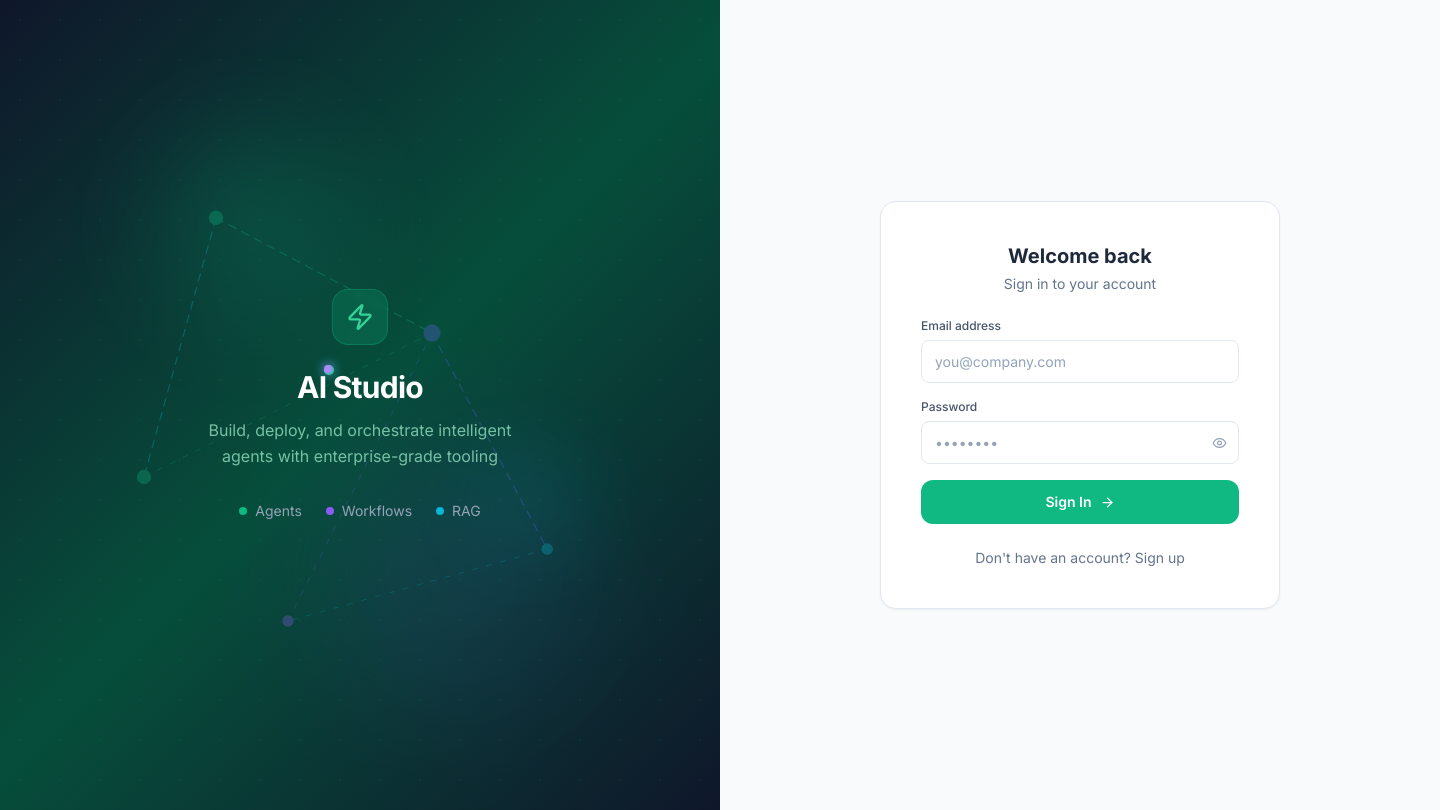
Scenario: LoginPage › shows generic error message when no detail in response
Type "test@test.com" into the field with placeholder "you@company.com" at (1080, 362), box [921, 340, 1239, 383]
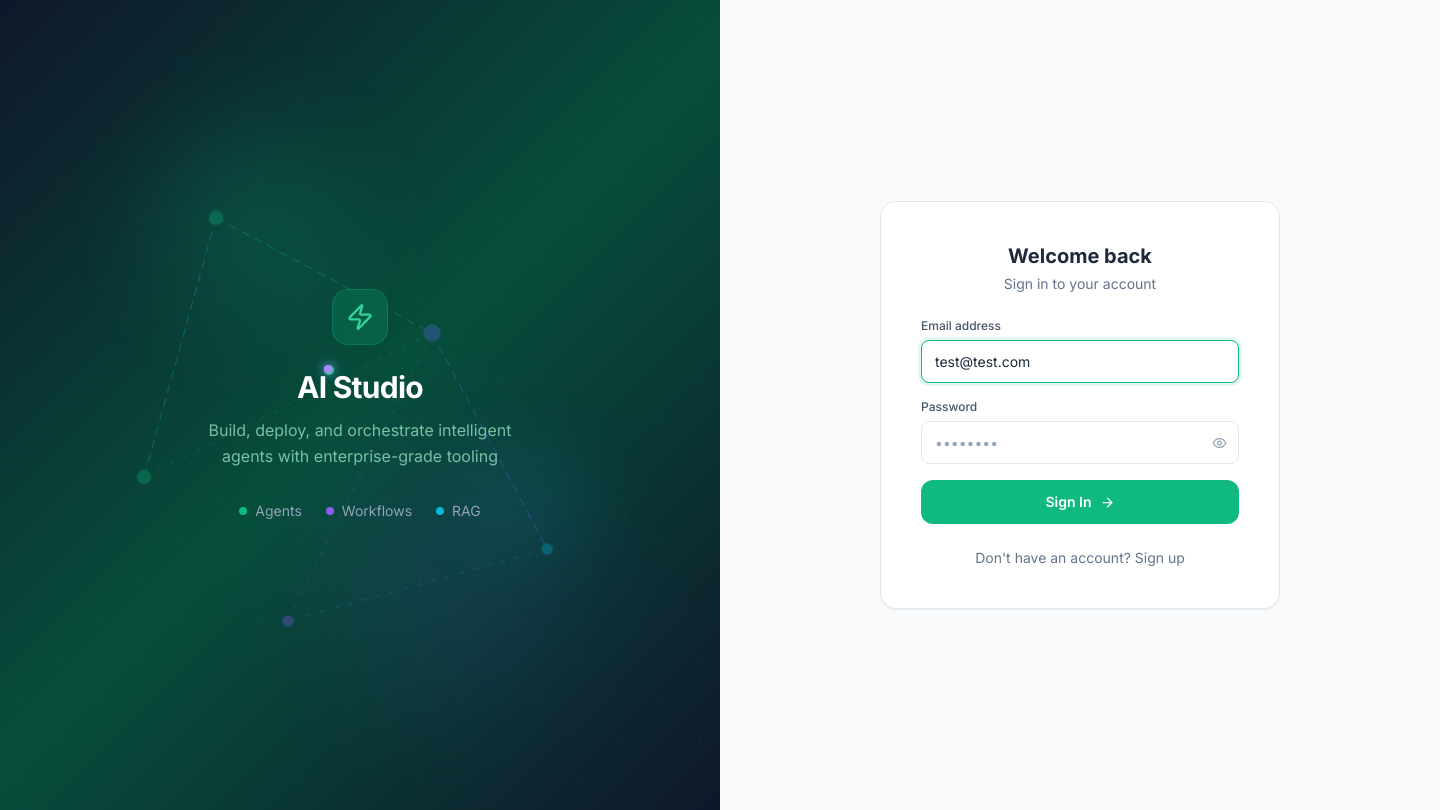
Type "pass" into the password field with placeholder "••••••••" at (1080, 442), box [921, 421, 1239, 464]
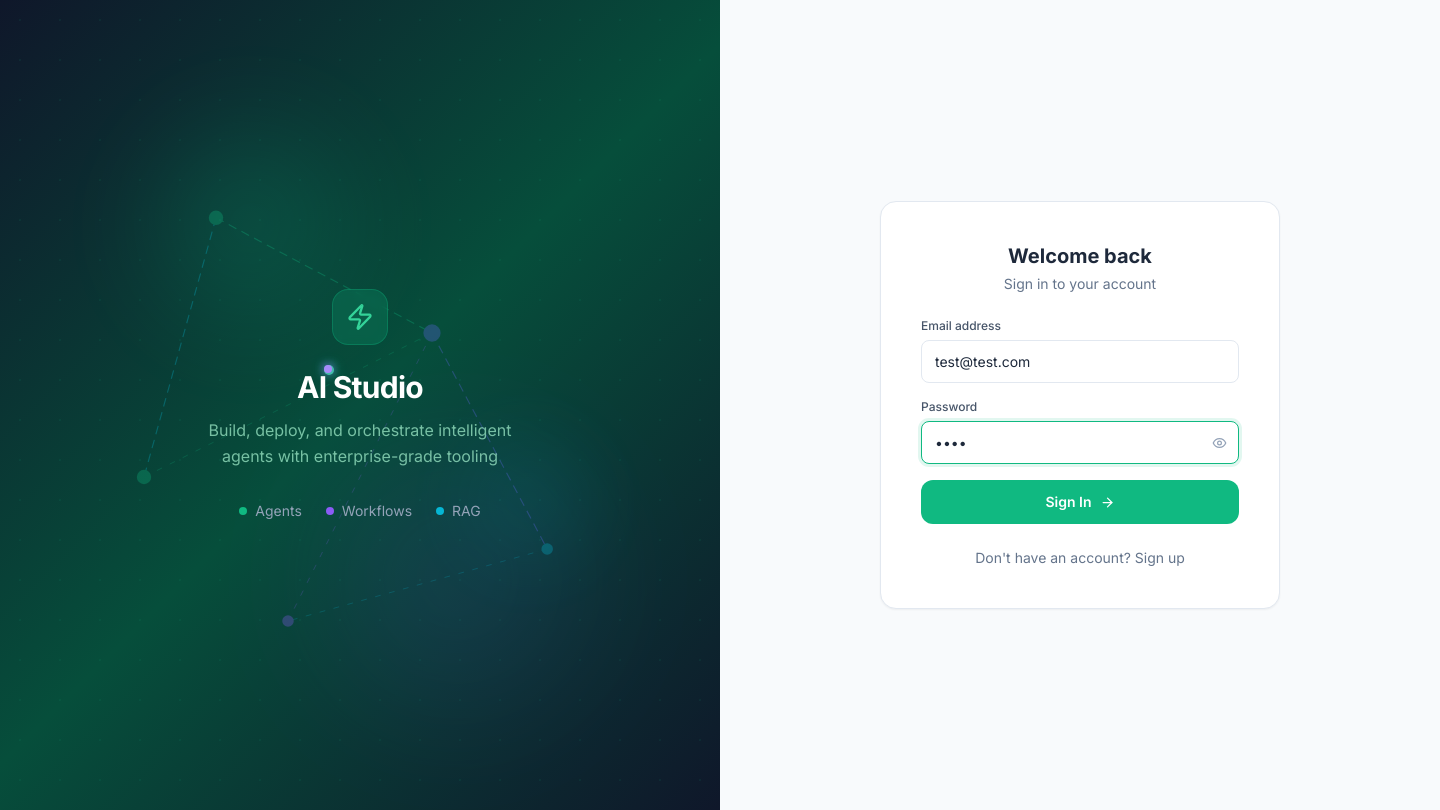
Click the button "Sign In" at (1080, 502), box [921, 480, 1239, 524]
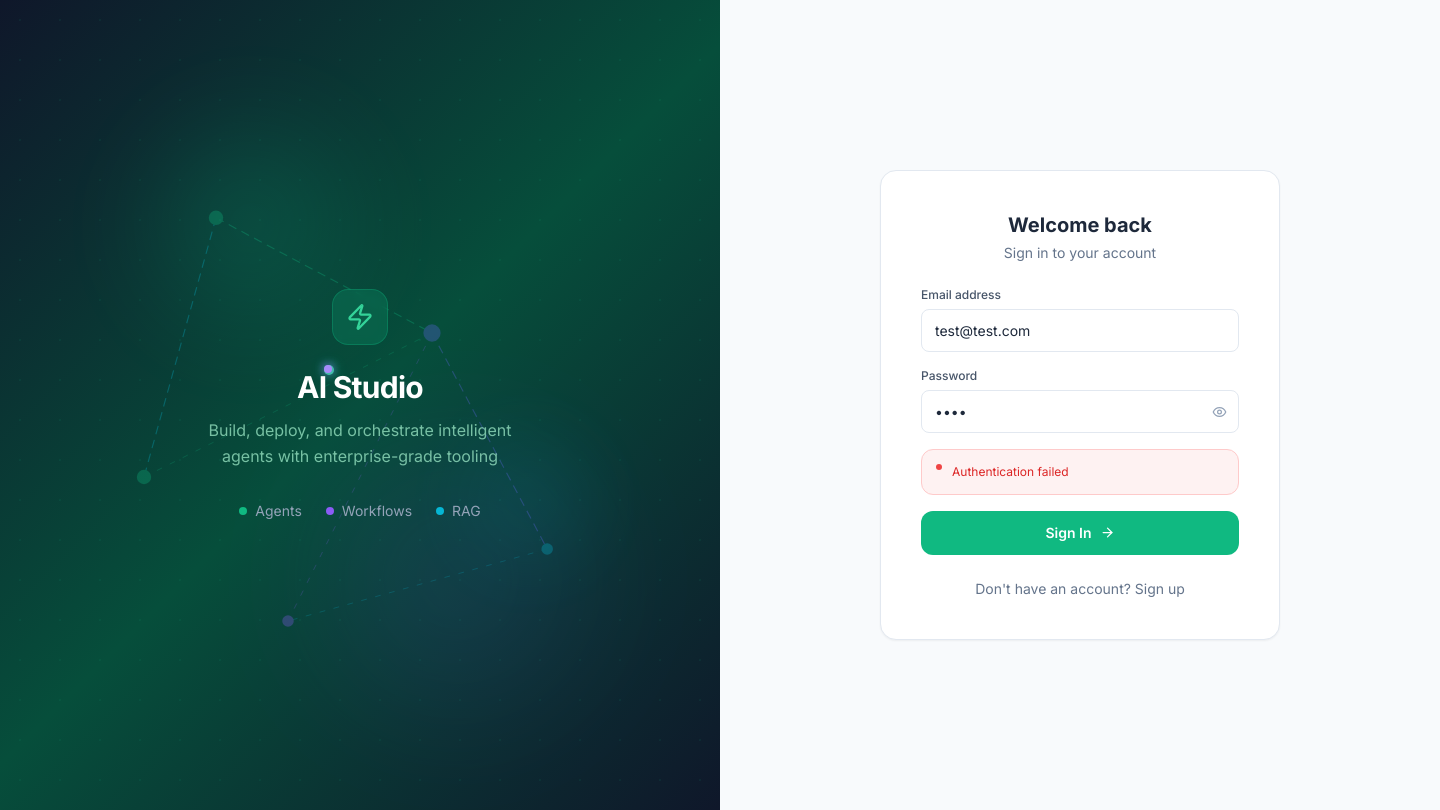
Check: the text "Authentication failed" is shown, box [952, 462, 1069, 482]
